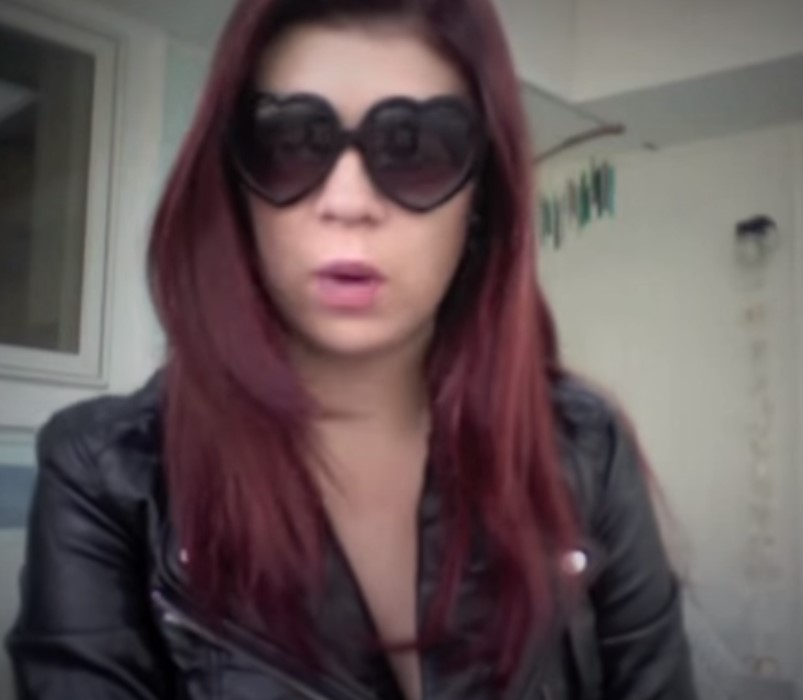face_no_mask: (226, 14, 498, 358)
